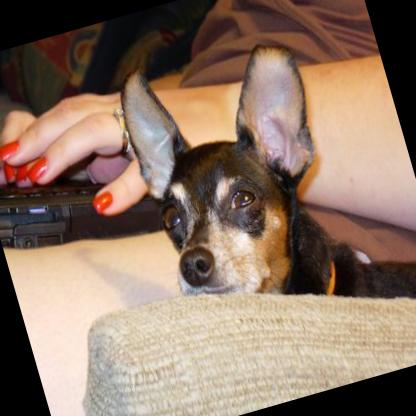miniature_pinscher: (109, 4, 416, 374)
